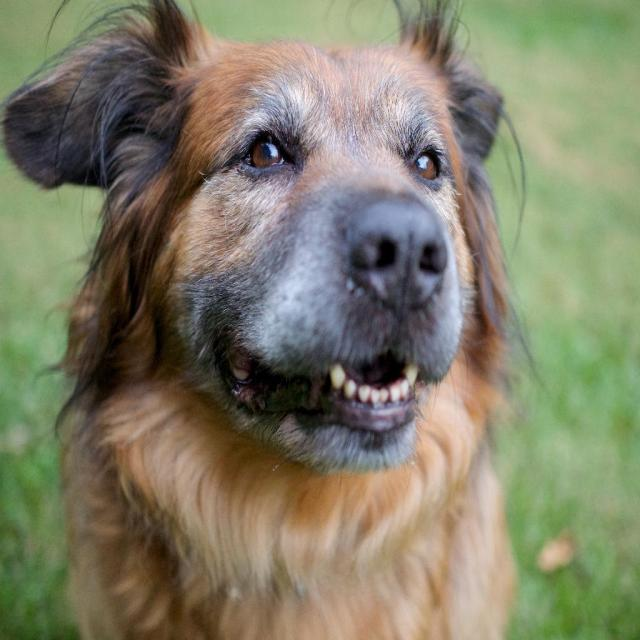Dog: (0, 0, 545, 638)
